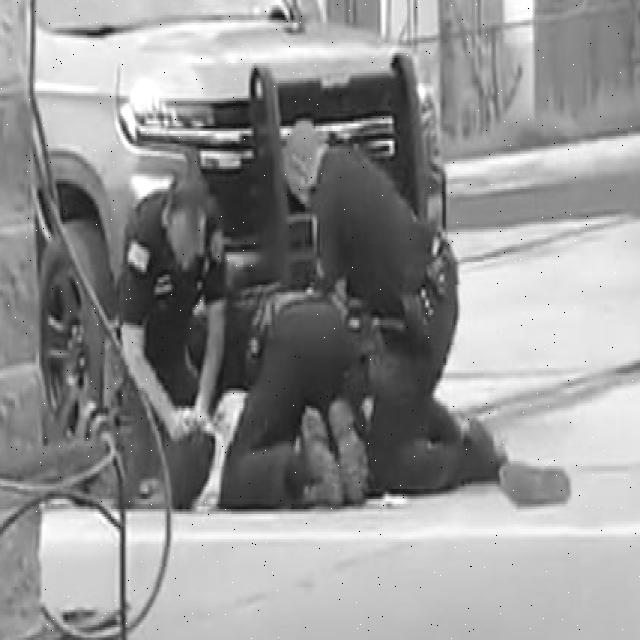police: (275, 102, 481, 517), (107, 157, 221, 558)
